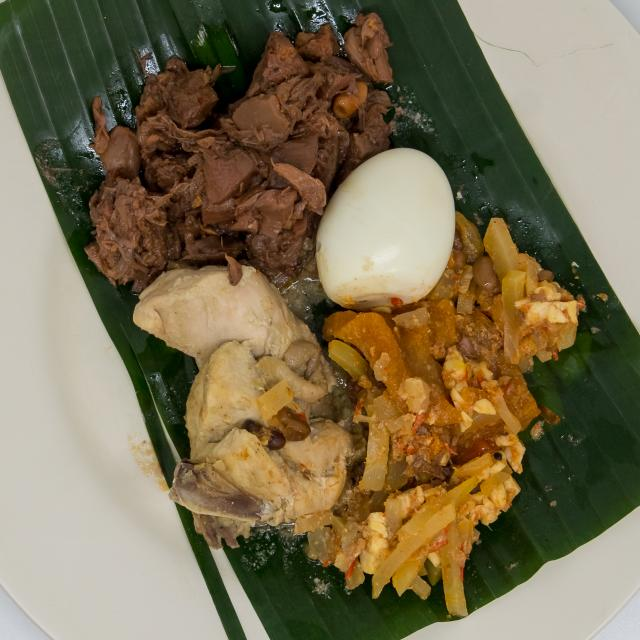Gudeg-Jogja: (77, 0, 608, 625)
